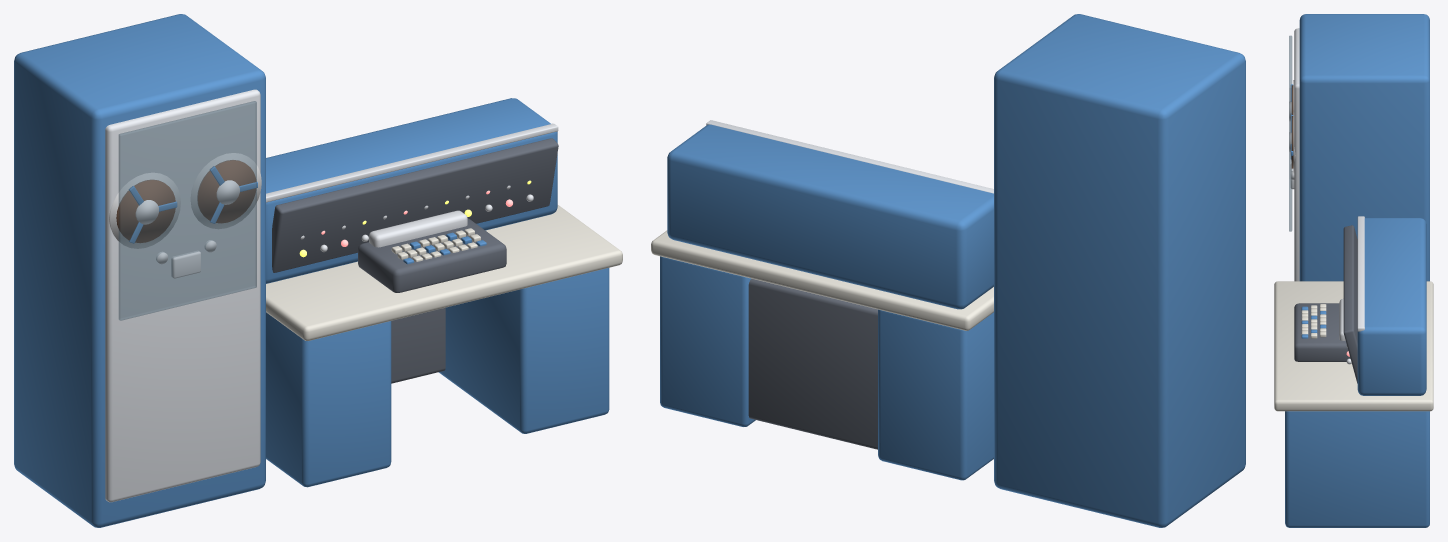
Rendered from ibm1620_mainframe.glb.
3 views of the same model, side by side, from view 1: azimuth 30°, elevation 25°; view 2: azimuth 150°, elevation 25°; view 3: azimuth 270°, elevation 25° (orthographic). The views are drawn at different scales.
Visible parts, largest first — view 1: TapeCabinet, TapeDoorFrame, TapeFrontGlass, DeskRightPed, DeskLeftPed, SlopedFace, DeskTop, ConsoleHood, TypewriterBody, DeskBackPanel, ChromeTrimTop, ReelTape_-1 (+4 smaller); view 2: TapeCabinet, ConsoleHood, DeskBackPanel, DeskLeftPed, DeskRightPed, DeskTop, ChromeTrimTop; view 3: TapeCabinet, DeskRightPed, ConsoleHood, DeskTop, TypewriterBody, SlopedFace, TapeDoorFrame, ChromeTrimTop, TapeFrontGlass, TypewriterPlaten.
Part boxes in pixels (bbox=[...]): TapeCabinet: bbox=[14, 14, 265, 527]; TapeDoorFrame: bbox=[105, 89, 260, 502]; TapeFrontGlass: bbox=[118, 101, 256, 320]; DeskRightPed: bbox=[439, 268, 609, 433]; DeskLeftPed: bbox=[266, 312, 391, 487]; SlopedFace: bbox=[272, 138, 558, 272]; DeskTop: bbox=[266, 205, 622, 340]; ConsoleHood: bbox=[266, 98, 557, 283]; TypewriterBody: bbox=[358, 218, 506, 292]; DeskBackPanel: bbox=[391, 307, 445, 383]; ChromeTrimTop: bbox=[266, 123, 558, 202]; ReelTape_-1: bbox=[116, 180, 175, 242]; TapeCabinet: bbox=[994, 14, 1245, 527]; ConsoleHood: bbox=[667, 124, 993, 309]; DeskBackPanel: bbox=[748, 278, 877, 449]; DeskLeftPed: bbox=[878, 309, 993, 480]; DeskRightPed: bbox=[660, 256, 755, 426]; DeskTop: bbox=[651, 230, 993, 330]; ChromeTrimTop: bbox=[706, 120, 993, 193]; TapeCabinet: bbox=[1299, 14, 1429, 281]; DeskRightPed: bbox=[1285, 411, 1429, 527]; ConsoleHood: bbox=[1357, 218, 1426, 395]; DeskTop: bbox=[1274, 281, 1433, 411]; TypewriterBody: bbox=[1294, 303, 1350, 361]; SlopedFace: bbox=[1343, 225, 1357, 383]; TapeDoorFrame: bbox=[1294, 28, 1299, 281]; ChromeTrimTop: bbox=[1357, 216, 1364, 331]; TapeFrontGlass: bbox=[1289, 35, 1292, 231]; TypewriterPlaten: bbox=[1339, 298, 1345, 340].
Bounding box in the file's own units: 2.54 × 1.98 × 0.88.
